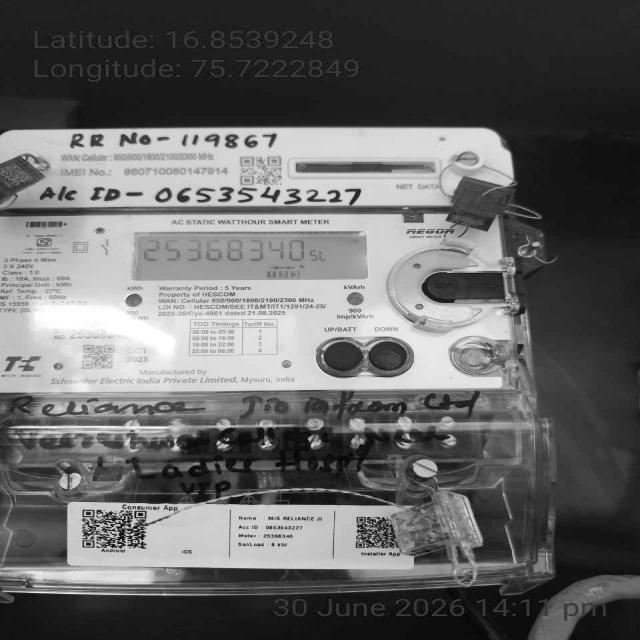meter: (4, 132, 524, 390)
